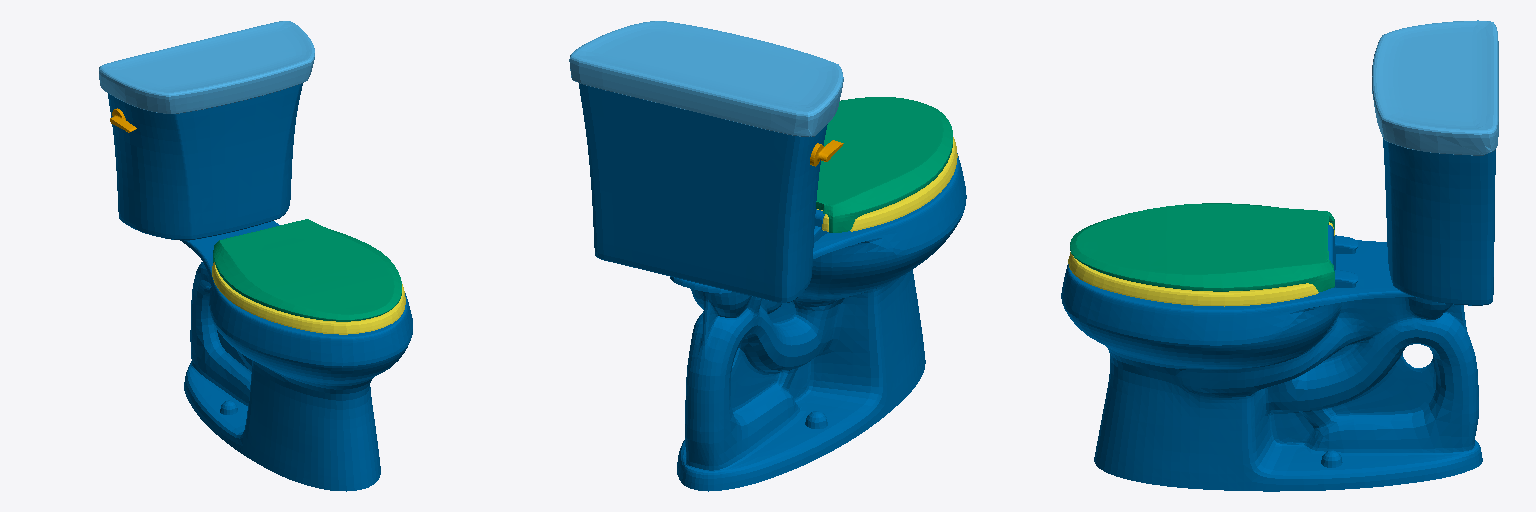
URDF robot description (102707):
<?xml version="1.0" ?>
<robot name="102707" version="1.0">
  <link name="link_0">
  	<inertial>
      <origin rpy="0.0 0.0 0.0" xyz="0.0 0.0 0.0"/>
      <mass value="0.0"/>
      <inertia ixx="0.001" ixy="0.0" ixz="0.0" iyy="0.001" iyz="0.0" izz="0.001"/>
    </inertial>
    <visual name="link_0___3">
      <origin rpy="0.0 0.0 0.0" xyz="0.4264248258709862 -0.44278395488539674 -0.5515139014726672"/>
      <geometry>
        <mesh filename="shape/visual/link_0_m3_vm.obj"/>
      </geometry>
    </visual>
    <collision>
      <origin rpy="0.0 0.0 0.0" xyz="0.4264248258709862 -0.44278395488539674 -0.5515139014726672"/>
      <geometry>
        <mesh filename="shape/collision/link_0_cm.obj"/>
      </geometry>
    </collision>
  </link>
  <link name="link_1">
  	<inertial>
      <origin rpy="0.0 0.0 0.0" xyz="0.0 0.0 0.0"/>
      <mass value="0.0"/>
      <inertia ixx="0.001" ixy="0.0" ixz="0.0" iyy="0.001" iyz="0.0" izz="0.001"/>
    </inertial>
    <visual name="link_1___1">
      <origin rpy="0.0 0.0 0.0" xyz="0.0 -0.0 0.0"/>
      <geometry>
        <mesh filename="shape/visual/link_1_m1_vm.obj"/>
      </geometry>
    </visual>
    <collision>
      <origin rpy="0.0 0.0 0.0" xyz="0.0 -0.0 0.0"/>
      <geometry>
        <mesh filename="shape/collision/link_1_cm.obj"/>
      </geometry>
    </collision>
  </link>
  <link name="link_2">
  	<inertial>
      <origin rpy="0.0 0.0 0.0" xyz="0.0 0.0 0.0"/>
      <mass value="0.0"/>
      <inertia ixx="0.001" ixy="0.0" ixz="0.0" iyy="0.001" iyz="0.0" izz="0.001"/>
    </inertial>
    <visual name="link_2___2">
      <origin rpy="0.0 0.0 0.0" xyz="0.0 -0.009903901096258771 -0.09202221043028891"/>
      <geometry>
        <mesh filename="shape/visual/link_2_m2_vm.obj"/>
      </geometry>
    </visual>
    <collision>
      <origin rpy="0.0 0.0 0.0" xyz="0.0 -0.009903901096258771 -0.09202221043028891"/>
      <geometry>
        <mesh filename="shape/collision/link_2_cm.obj"/>
      </geometry>
    </collision>
  </link>
  <link name="link_3">
  	<inertial>
      <origin rpy="0.0 0.0 0.0" xyz="0.0 0.0 0.0"/>
      <mass value="0.0"/>
      <inertia ixx="0.001" ixy="0.0" ixz="0.0" iyy="0.001" iyz="0.0" izz="0.001"/>
    </inertial>
    <visual name="link_3___2">
      <origin rpy="0.0 0.0 0.0" xyz="0.0 -0.009903901096258771 -0.09202221043028891"/>
      <geometry>
        <mesh filename="shape/visual/link_3_m2_vm.obj"/>
      </geometry>
    </visual>
    <collision>
      <origin rpy="0.0 0.0 0.0" xyz="0.0 -0.009903901096258771 -0.09202221043028891"/>
      <geometry>
        <mesh filename="shape/collision/link_3_cm.obj"/>
      </geometry>
    </collision>
  </link>
  <link name="base_link">
  	<inertial>
      <origin rpy="0.0 0.0 0.0" xyz="0.0 0.0 0.0"/>
      <mass value="0.0"/>
      <inertia ixx="0.001" ixy="0.0" ixz="0.0" iyy="0.001" iyz="0.0" izz="0.001"/>
    </inertial>
    <visual name="link_4___1">
      <origin rpy="0.0 0.0 0.0" xyz="0.0 -0.0 0.0"/>
      <geometry>
        <mesh filename="shape/visual/link_4_m1_vm.obj"/>
      </geometry>
    </visual>
    <collision>
      <origin rpy="0.0 0.0 0.0" xyz="0.0 -0.0 0.0"/>
      <geometry>
        <mesh filename="shape/collision/link_4_cm.obj"/>
      </geometry>
    </collision>
  </link>
  <joint name="joint_0" type="revolute">
    <origin rpy="0.0 0.0 0.0" xyz="-0.4264248258709862 0.44278395488539674 0.5515139014726672"/>
    <axis xyz="0.9833508004441883 0.103909631067337 0.1490771338509839"/>
    <parent link="base_link"/>
    <child link="link_0"/>
    <limit lower="0.0" upper="0.5235987755982988"/>
  </joint>
  <joint name="joint_1" type="prismatic">
    <origin rpy="0.0 0.0 0.0" xyz="0.0 -0.0 0.0"/>
    <axis xyz="0.0 -0.0 1.0"/>
    <parent link="base_link"/>
    <child link="link_1"/>
    <limit lower="0.0" upper="0.03"/>
  </joint>
  <joint name="joint_2" type="revolute">
    <origin rpy="0.0 0.0 0.0" xyz="0.0 0.009903901096258771 0.09202221043028891"/>
    <axis xyz="-1.0 -0.0 0.0"/>
    <parent link="base_link"/>
    <child link="link_2"/>
    <limit lower="-0.0" upper="1.6929693744344996"/>
  </joint>
  <joint name="joint_3" type="revolute">
    <origin rpy="0.0 0.0 0.0" xyz="0.0 0.009903901096258771 0.09202221043028891"/>
    <axis xyz="-1.0 -0.0 0.0"/>
    <parent link="base_link"/>
    <child link="link_3"/>
    <limit lower="-0.0" upper="1.6929693744344996"/>
  </joint>
</robot>

--- Render facts (derived) ---
3 views of the same robot in one strip: view 1: azimuth 30°, elevation 25°; view 2: azimuth 150°, elevation 25°; view 3: azimuth 270°, elevation 25° (orthographic).
Robot: 102707 — 5 links, 4 joints (3 revolute, 1 prismatic); root link base_link; default pose: all joints at 0.
Visible links, largest first — view 1: base_link, link_2, link_1, link_3; view 2: base_link, link_1, link_2, link_3; view 3: base_link, link_2, link_1, link_3.
Link boxes in pixels (bbox=[...]): base_link: bbox=[108, 83, 412, 491]; link_2: bbox=[213, 219, 401, 321]; link_1: bbox=[99, 21, 314, 113]; link_3: bbox=[212, 262, 405, 334]; base_link: bbox=[579, 83, 966, 491]; link_1: bbox=[569, 21, 843, 136]; link_2: bbox=[816, 97, 952, 232]; link_3: bbox=[817, 137, 957, 231]; base_link: bbox=[1061, 138, 1495, 491]; link_2: bbox=[1070, 203, 1334, 291]; link_1: bbox=[1372, 20, 1498, 155]; link_3: bbox=[1068, 222, 1334, 306].
Size in the robot's own frame: 0.8649 by 1.42 by 1.37 metres.
5 mesh visuals loaded from 5 distinct referenced files (5 OBJ).